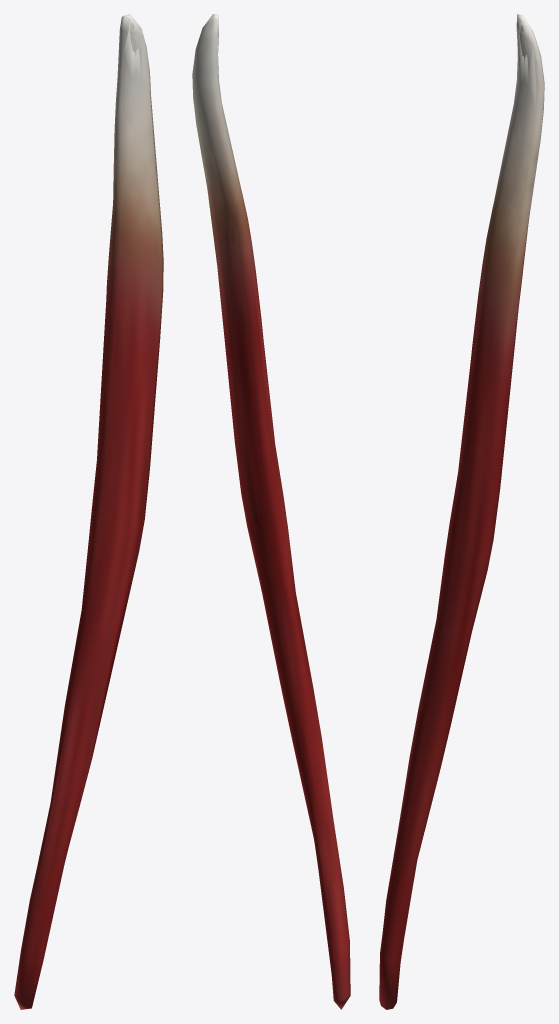
Rendered from L Supinator.fbx.
The picture shows the model from 3 angles, left to right: view 1: azimuth 30°, elevation 25°; view 2: azimuth 150°, elevation 25°; view 3: azimuth 330°, elevation 25°; orthographic projection. The views are drawn at different scales.
Visible parts, largest first — view 1: L Supinator low, L Supinator, L Supinator high; view 2: L Supinator low, L Supinator, L Supinator high; view 3: L Supinator low, L Supinator, L Supinator high.
Boxes of the visible parts, x1=… form: L Supinator low: x1=26, y1=14, x2=163, y2=995; L Supinator: x1=14, y1=14, x2=163, y2=1009; L Supinator high: x1=31, y1=22, x2=156, y2=985; L Supinator low: x1=194, y1=14, x2=349, y2=1000; L Supinator: x1=192, y1=14, x2=350, y2=1009; L Supinator high: x1=199, y1=23, x2=347, y2=922; L Supinator low: x1=380, y1=14, x2=544, y2=1008; L Supinator: x1=379, y1=14, x2=544, y2=1009; L Supinator high: x1=383, y1=24, x2=540, y2=986.
Bounding box in the file's own units: 1.18 × 7.55 × 0.4902.
1 material, 1 textured.
